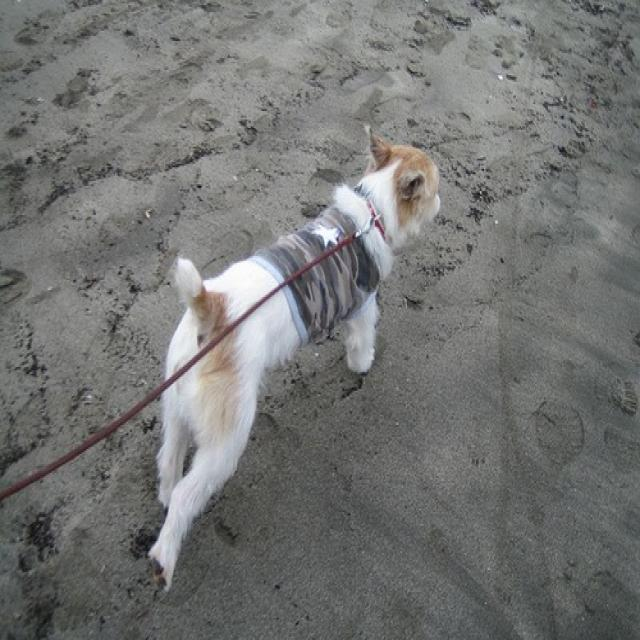dog: (145, 126, 444, 613)
